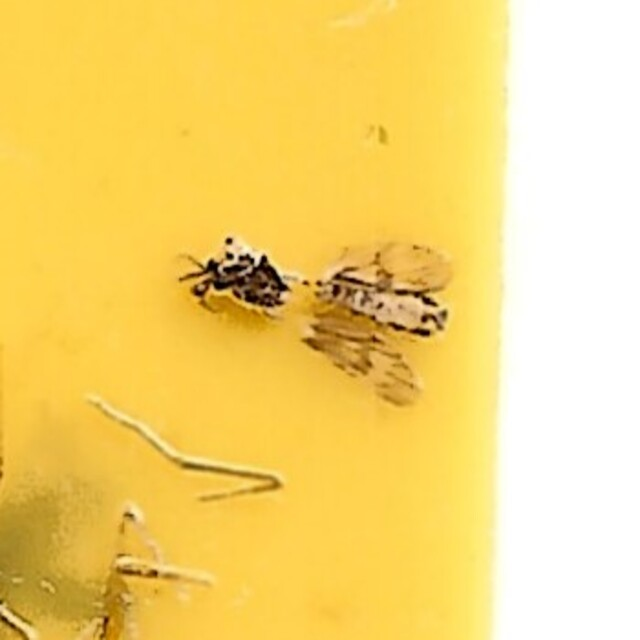Nematocera: (183, 221, 457, 419)
